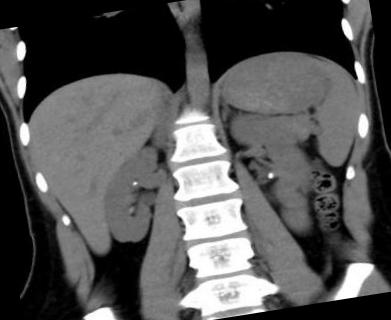Tas_Var: (262, 168, 281, 182), (127, 178, 140, 188)
